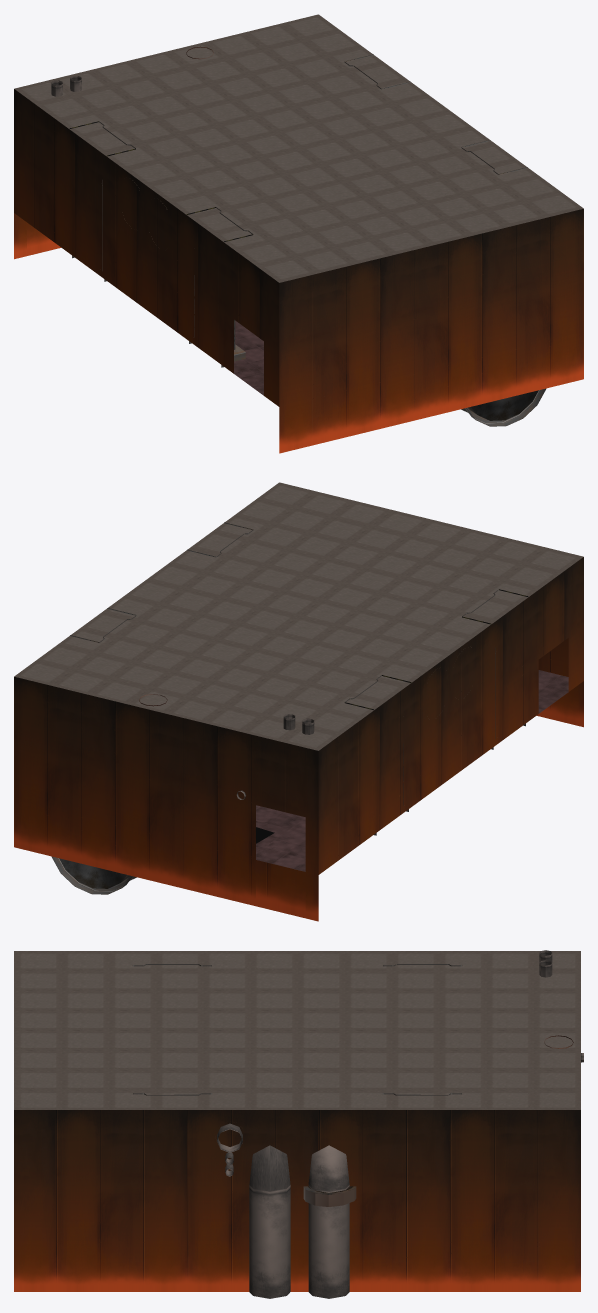
Rendered from molten_side_lava.fbx.
3 renders of one model, top to bottom at view 1: azimuth 30°, elevation 25°; view 2: azimuth 150°, elevation 25°; view 3: azimuth 270°, elevation 25°, orthographic. The views are drawn at different scales.
Visible parts, largest first — view 1: Room, BigPipe, Floor, Pillars; view 2: Room, Floor, BigPipe, Pillars; view 3: Room, Pipes, Bearings, Pillars.
Part boxes in pixels (x1,y1,x2,y2): Room: [14, 14, 583, 453]; BigPipe: [461, 388, 546, 426]; Floor: [234, 320, 263, 395]; Pillars: [69, 54, 527, 367]; Room: [14, 482, 583, 921]; Floor: [256, 670, 568, 871]; BigPipe: [51, 856, 136, 894]; Pillars: [70, 522, 528, 835]; Room: [14, 951, 580, 1291]; Pipes: [217, 950, 583, 1298]; Bearings: [240, 1035, 573, 1206]; Pillars: [132, 964, 462, 1095].
Bounding box in the file's own units: 2784 × 1749 × 4004.
